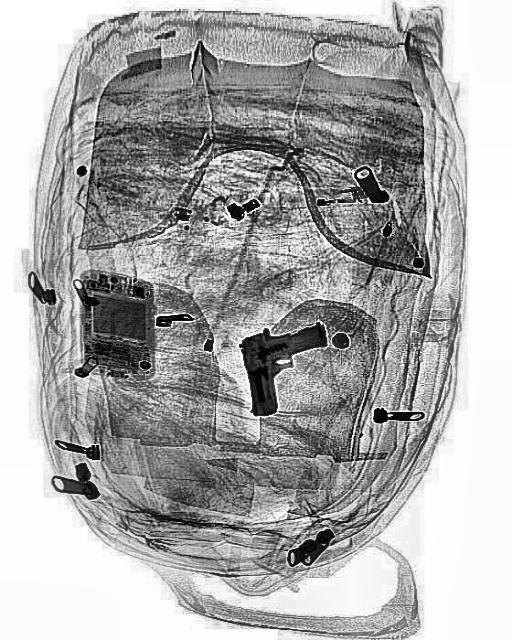Gun: (232, 310, 338, 418)
